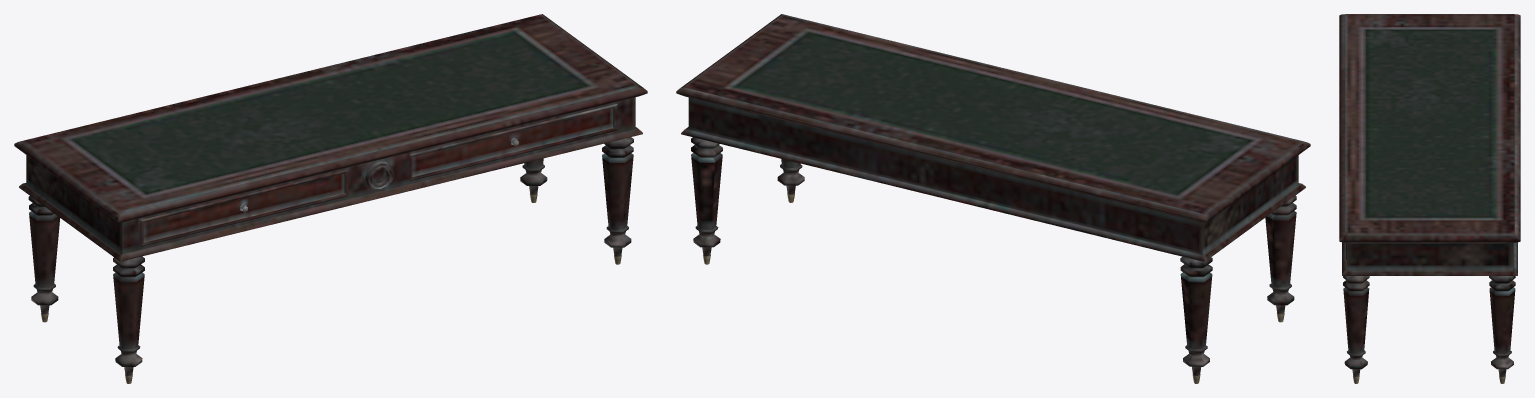
The model's file is Librarytable.fbx.
3 views of the same model, side by side, from view 1: azimuth 30°, elevation 25°; view 2: azimuth 150°, elevation 25°; view 3: azimuth 270°, elevation 25° (orthographic). The views are drawn at different scales.
Parts seen in each view (by area): view 1: LODGroup_1_MainMesh_1_SubMesh_1; view 2: LODGroup_1_MainMesh_1_SubMesh_1; view 3: LODGroup_1_MainMesh_1_SubMesh_1.
Part boxes in pixels (<box>): LODGroup_1_MainMesh_1_SubMesh_1: <box>14,14,647,383</box>; LODGroup_1_MainMesh_1_SubMesh_1: <box>676,14,1310,383</box>; LODGroup_1_MainMesh_1_SubMesh_1: <box>1339,14,1520,383</box>.
Size of the model in its own units: 308 by 99.84 by 105.
